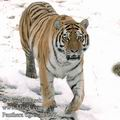Tigre: (16, 2, 106, 118)
